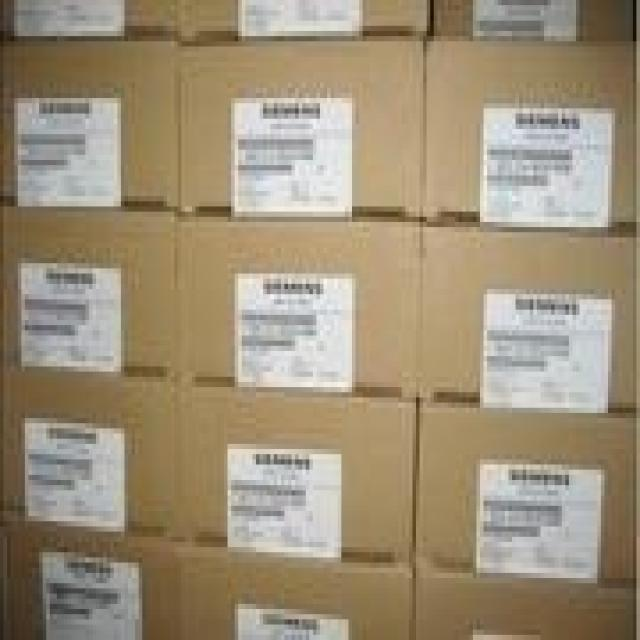box: (173, 219, 423, 401), (180, 41, 426, 224), (172, 389, 416, 569), (423, 40, 634, 236), (414, 403, 636, 583), (421, 226, 636, 411), (0, 42, 181, 215), (2, 205, 174, 384), (1, 368, 173, 540), (178, 544, 413, 635), (0, 520, 174, 635), (409, 564, 634, 635), (183, 1, 431, 48), (432, 2, 635, 45), (1, 1, 182, 45)
